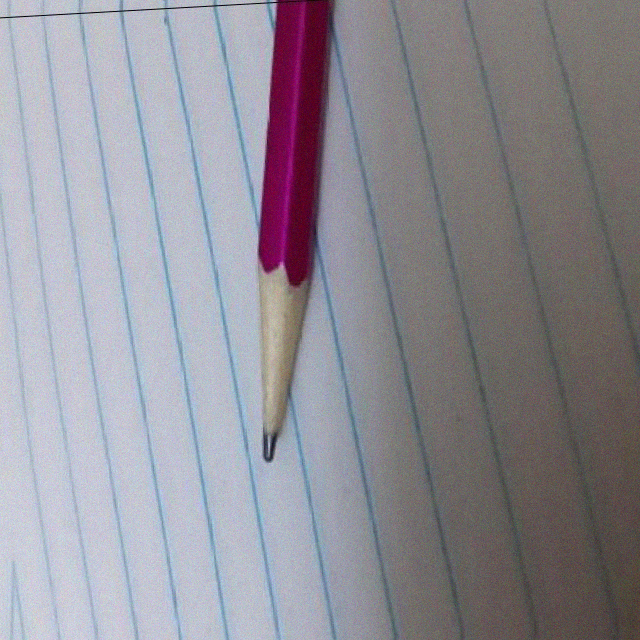pencil: (228, 255, 320, 471)
